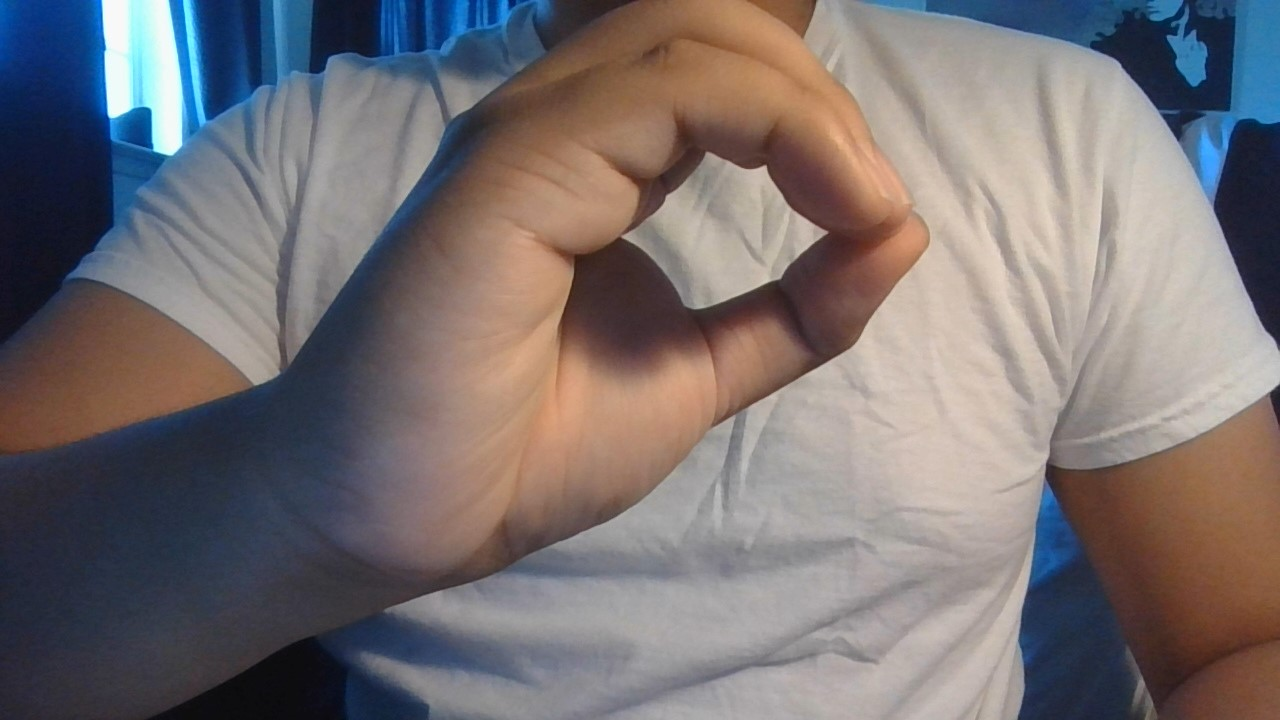o: (247, 14, 1013, 615)
